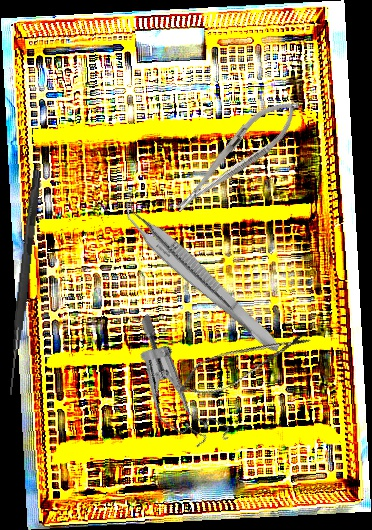Hook Surgical: (6, 169, 42, 396)
Micro Scissor: (168, 318, 317, 408)
Needle Holder: (164, 87, 309, 224)
Speculum: (99, 312, 261, 461)
Tissue Forceps: (111, 195, 291, 357)
